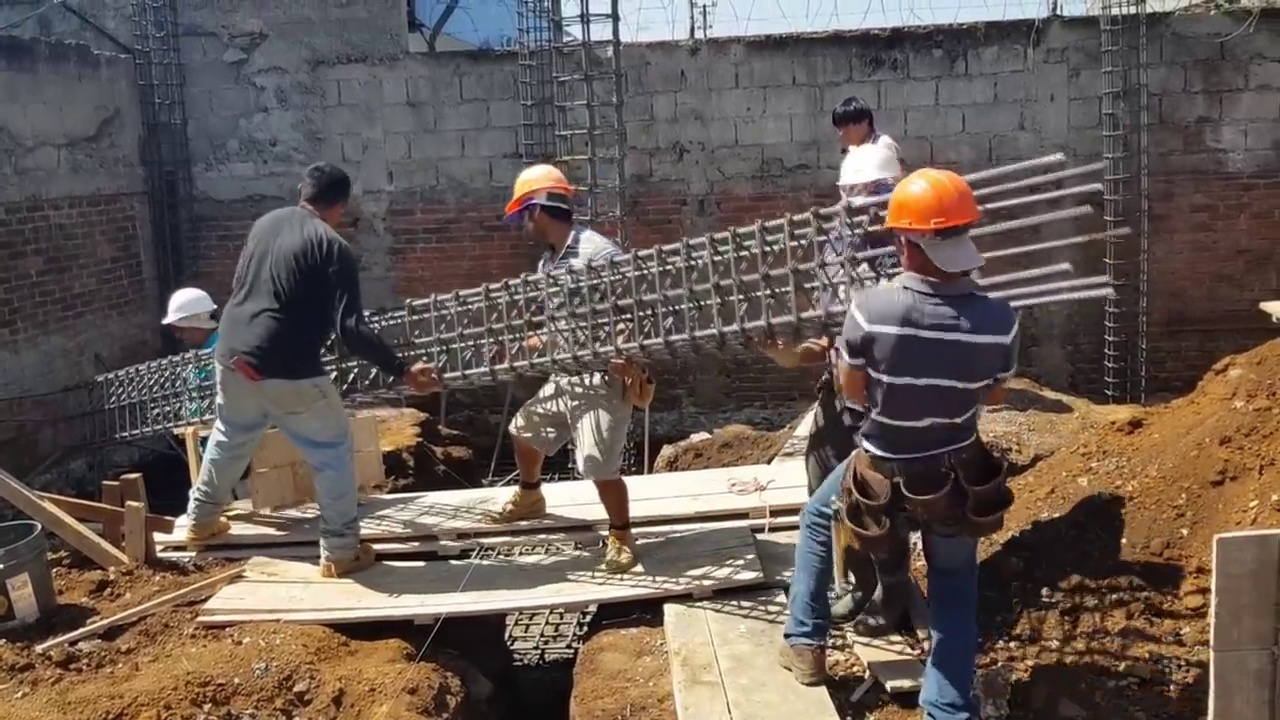helmet: (888, 162, 980, 235), (500, 166, 578, 221), (834, 148, 904, 189), (158, 288, 207, 329)
helmet-off: (297, 161, 350, 229), (832, 93, 882, 150)
helmet-on: (886, 164, 990, 290), (495, 168, 580, 261), (154, 286, 223, 353)
person: (792, 162, 1038, 720), (172, 161, 408, 602), (482, 172, 653, 580), (814, 87, 905, 303), (794, 303, 872, 515)
